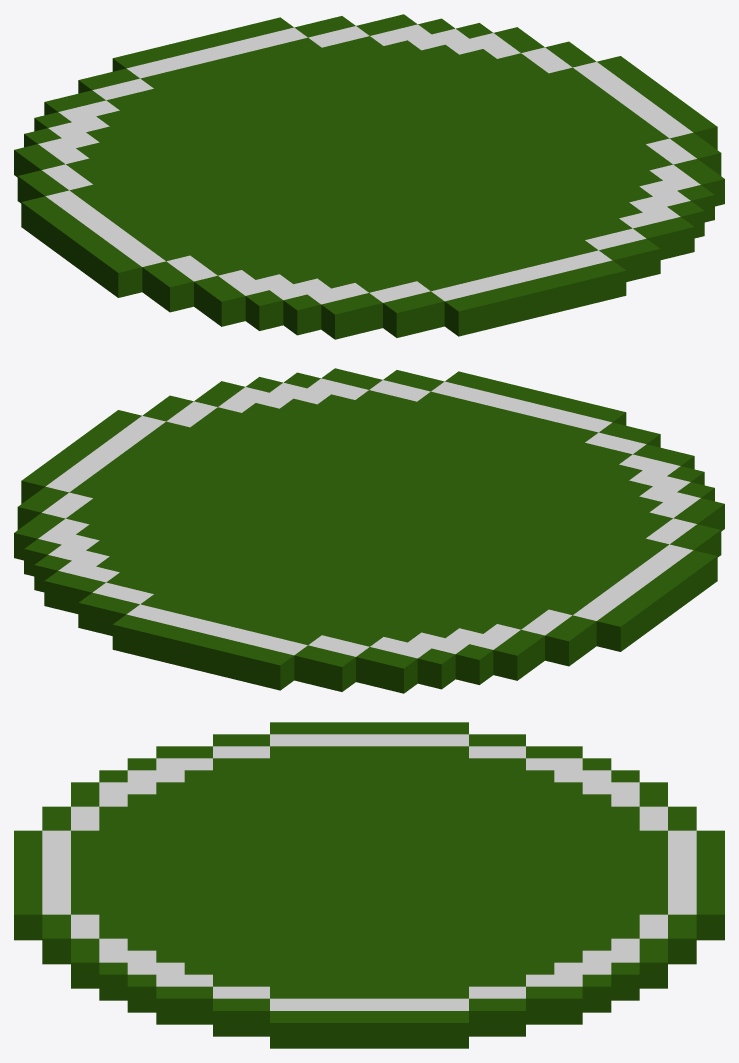
File: rug green.obj
3 views of the same model, one above another, from view 1: azimuth 30°, elevation 25°; view 2: azimuth 150°, elevation 25°; view 3: azimuth 270°, elevation 25° (orthographic). The views are drawn at different scales.
Parts seen in each view (by area): view 1: rug green; view 2: rug green; view 3: rug green.
Part boxes in pixels (box(x1,y1,x2,y2)): rug green: box(14, 14, 724, 339); rug green: box(14, 368, 724, 693); rug green: box(14, 722, 724, 1048).
Size of the model in its own units: 25 by 1 by 25.
